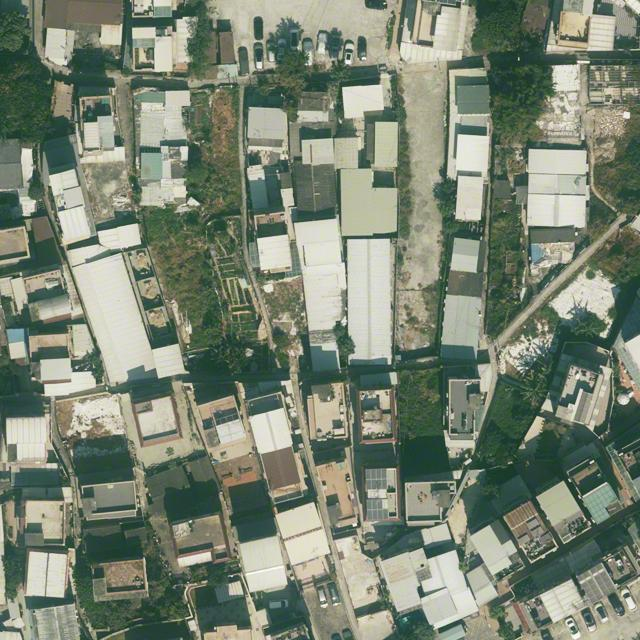panel: (576, 564, 617, 604), (367, 498, 389, 520), (366, 469, 387, 489)
